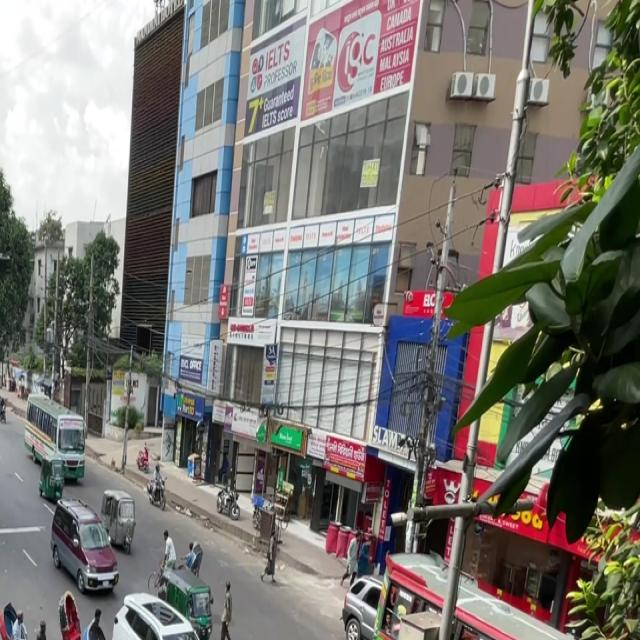car: (47, 498, 122, 596), (105, 587, 239, 640)
motorbike: (140, 448, 157, 478)
rickshaw: (97, 478, 142, 550), (36, 447, 66, 504)
